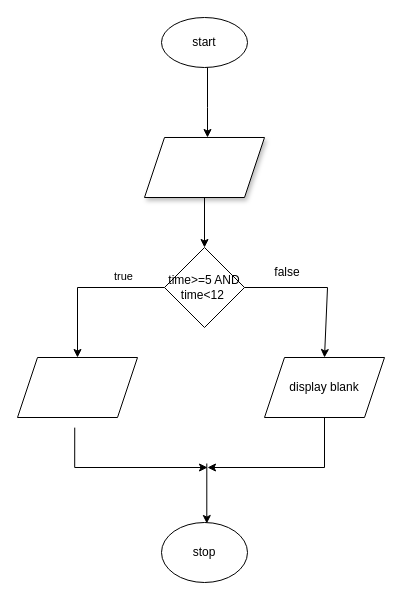
Some shapes in this 402 by 600 pixel diagram are drawn without their labels. Each missing label, with the centre of its shape:
display "Good Morning": (77,387)
input time: (205,168)
